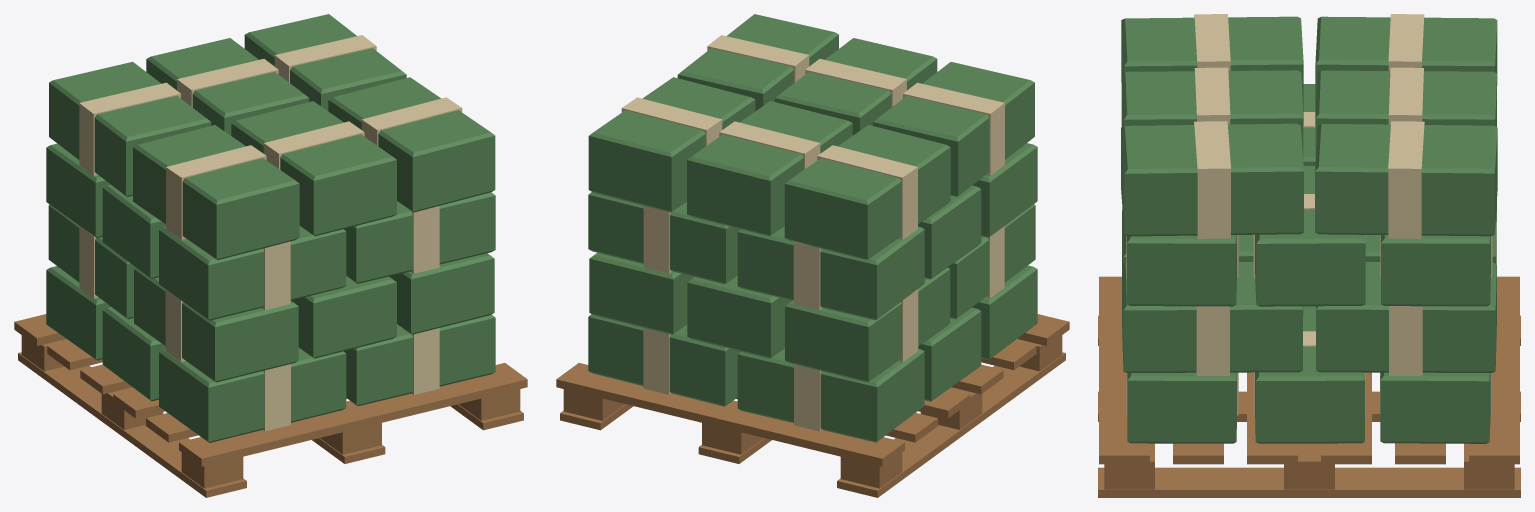
The model's file is pilha_notas_100.glb.
3 views of the same model, side by side, from view 1: azimuth 30°, elevation 25°; view 2: azimuth 150°, elevation 25°; view 3: azimuth 270°, elevation 25° (orthographic). The views are drawn at different scales.
Parts seen in each view (by area): view 1: pallet, faixa, fardo_20, fardo_24, fardo_22, fardo_15, fardo_3, fardo_19, fardo_8, fardo_6, fardo_18, fardo_21 (+8 smaller); view 2: pallet, faixa, fardo_19, fardo_23, fardo_21, fardo_13, fardo_1, fardo_20, fardo_7, fardo_4, fardo_16, fardo_22 (+8 smaller); view 3: pallet, faixa, fardo_23, fardo_24, fardo_12, fardo_11, fardo_17, fardo_5, fardo_20, fardo_22, fardo_19, fardo_21 (+7 smaller).
Boxes of the visible parts, <box> form: pallet: <box>14,314,527,497</box>; faixa: <box>79,35,462,431</box>; fardo_20: <box>133,125,299,260</box>; fardo_24: <box>328,77,495,212</box>; fardo_22: <box>231,101,396,236</box>; fardo_15: <box>159,226,346,320</box>; fardo_3: <box>159,348,346,442</box>; fardo_19: <box>49,61,211,196</box>; fardo_8: <box>134,268,298,382</box>; fardo_6: <box>344,314,495,406</box>; fardo_18: <box>344,192,495,283</box>; fardo_21: <box>146,38,309,135</box>; pallet: <box>556,314,1069,497</box>; faixa: <box>621,35,1004,431</box>; fardo_19: <box>784,125,950,260</box>; fardo_23: <box>588,77,755,212</box>; fardo_21: <box>687,101,852,236</box>; fardo_13: <box>737,226,924,320</box>; fardo_1: <box>737,348,924,442</box>; fardo_20: <box>873,62,1034,196</box>; fardo_7: <box>785,267,950,382</box>; fardo_4: <box>588,314,740,406</box>; fardo_16: <box>588,192,740,284</box>; fardo_22: <box>775,38,937,135</box>; pallet: <box>1098,276,1520,497</box>; faixa: <box>1126,14,1492,415</box>; fardo_23: <box>1315,123,1497,236</box>; fardo_24: <box>1121,123,1303,236</box>; fardo_12: <box>1122,262,1302,372</box>; fardo_11: <box>1316,262,1496,372</box>; fardo_17: <box>1255,166,1365,306</box>; fardo_5: <box>1255,306,1364,443</box>; fardo_20: <box>1121,16,1303,125</box>; fardo_22: <box>1121,70,1303,158</box>; fardo_19: <box>1315,16,1497,125</box>; fardo_21: <box>1315,70,1496,160</box>.
Bounding box in the file's own units: 1.2 × 1 × 1.2.
